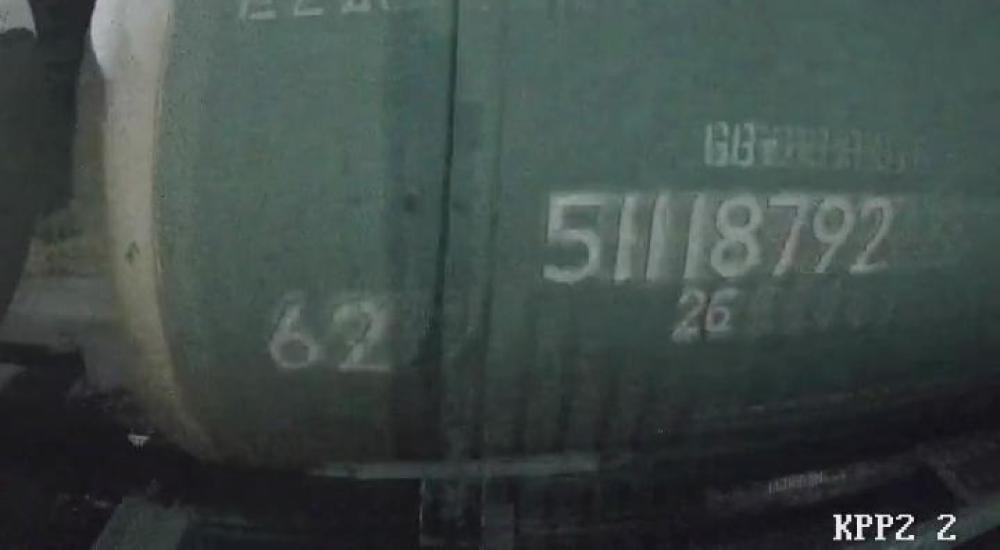Wagon-number: (533, 178, 899, 290)
